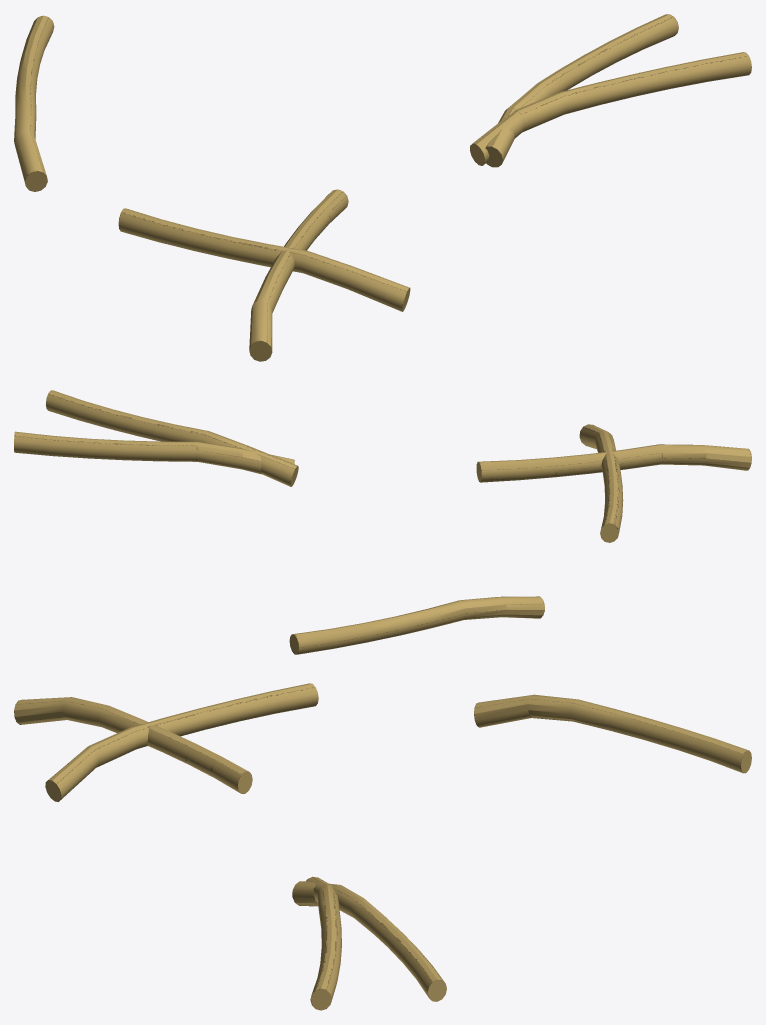
The picture shows the model from 3 angles, top to bottom: view 1: azimuth 30°, elevation 25°; view 2: azimuth 150°, elevation 25°; view 3: azimuth 270°, elevation 25°; orthographic projection. The views are drawn at different scales.
Visible parts, largest first — view 1: Circle.016_Baked; view 2: Circle.016_Baked; view 3: Circle.016_Baked.
Part boxes in pixels (box(x1,y1,x2,y2)): Circle.016_Baked: box(14, 14, 751, 361); Circle.016_Baked: box(14, 390, 751, 654); Circle.016_Baked: box(14, 683, 751, 1010).
Size of the model in its own units: 71.49 by 4.82 by 71.16.
Materials: 1 (1 with a texture image).
